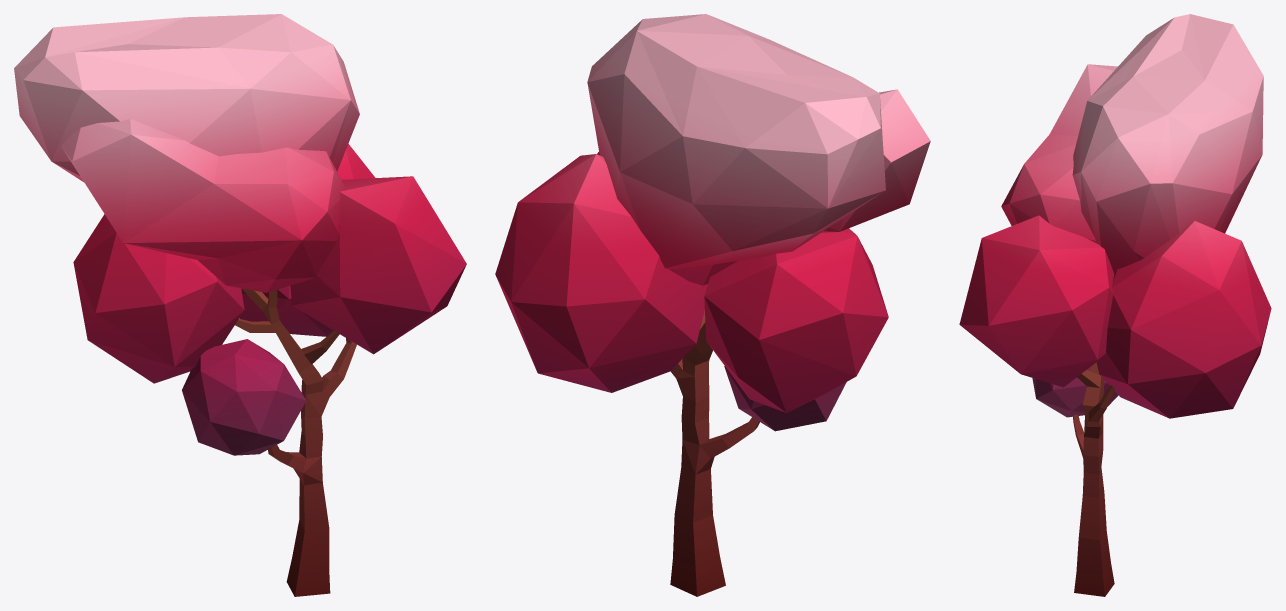
The model's file is Gradient_Tree_Windswept_red.glb.
3 renders of one model, left to right at view 1: azimuth 30°, elevation 25°; view 2: azimuth 150°, elevation 25°; view 3: azimuth 270°, elevation 25°, orthographic. The views are drawn at different scales.
Visible parts, largest first — view 1: Windswept red g; view 2: Windswept red g; view 3: Windswept red g.
Boxes of the visible parts, box(x1,y1,x2,y2) form: Windswept red g: box(14, 14, 466, 596); Windswept red g: box(495, 14, 930, 596); Windswept red g: box(959, 14, 1271, 596).
Bounding box in the file's own units: 10.34 × 15.38 × 8.9.
1 material, 1 textured.
